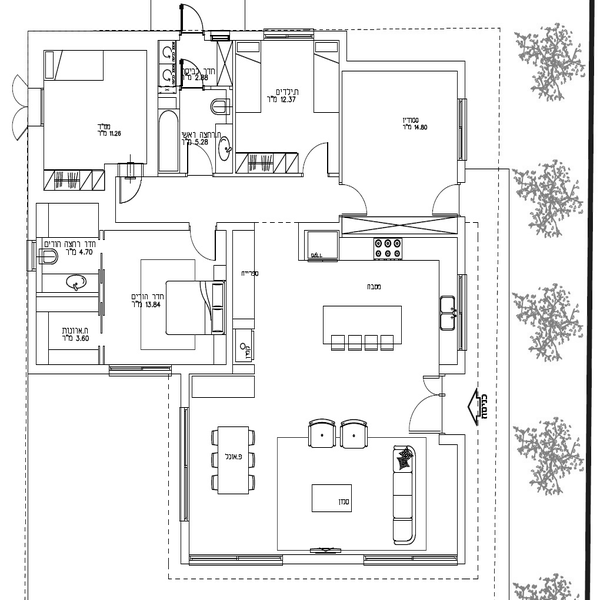door: (405, 369, 452, 436), (183, 225, 225, 266), (184, 131, 218, 177), (421, 185, 467, 218), (175, 2, 213, 39), (117, 161, 148, 206), (302, 138, 331, 178), (340, 183, 369, 218)
room: (163, 364, 471, 569), (248, 216, 467, 377), (27, 221, 260, 371), (147, 30, 337, 174), (338, 59, 470, 231), (26, 35, 162, 197)
window: (172, 407, 191, 520), (186, 553, 286, 569), (106, 359, 175, 375), (366, 554, 458, 565), (457, 95, 470, 164), (266, 28, 314, 45), (457, 275, 468, 347), (208, 27, 230, 44), (28, 241, 34, 274)
